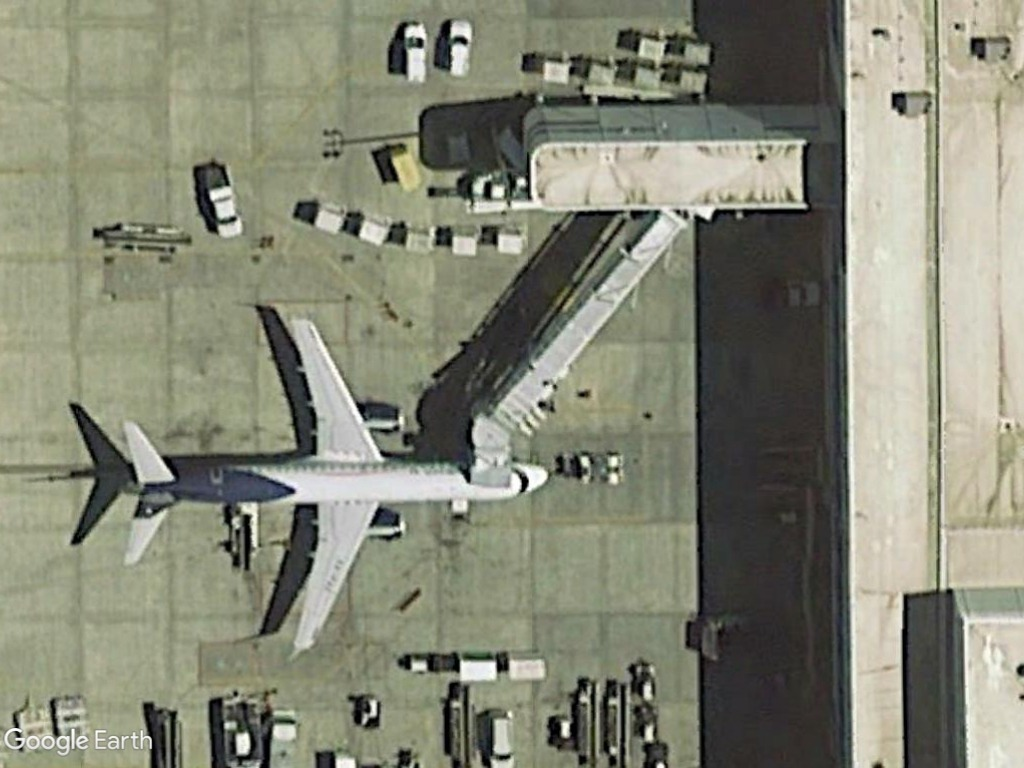airliner: (95, 308, 558, 662)
van: (441, 14, 478, 80), (397, 19, 431, 87)
